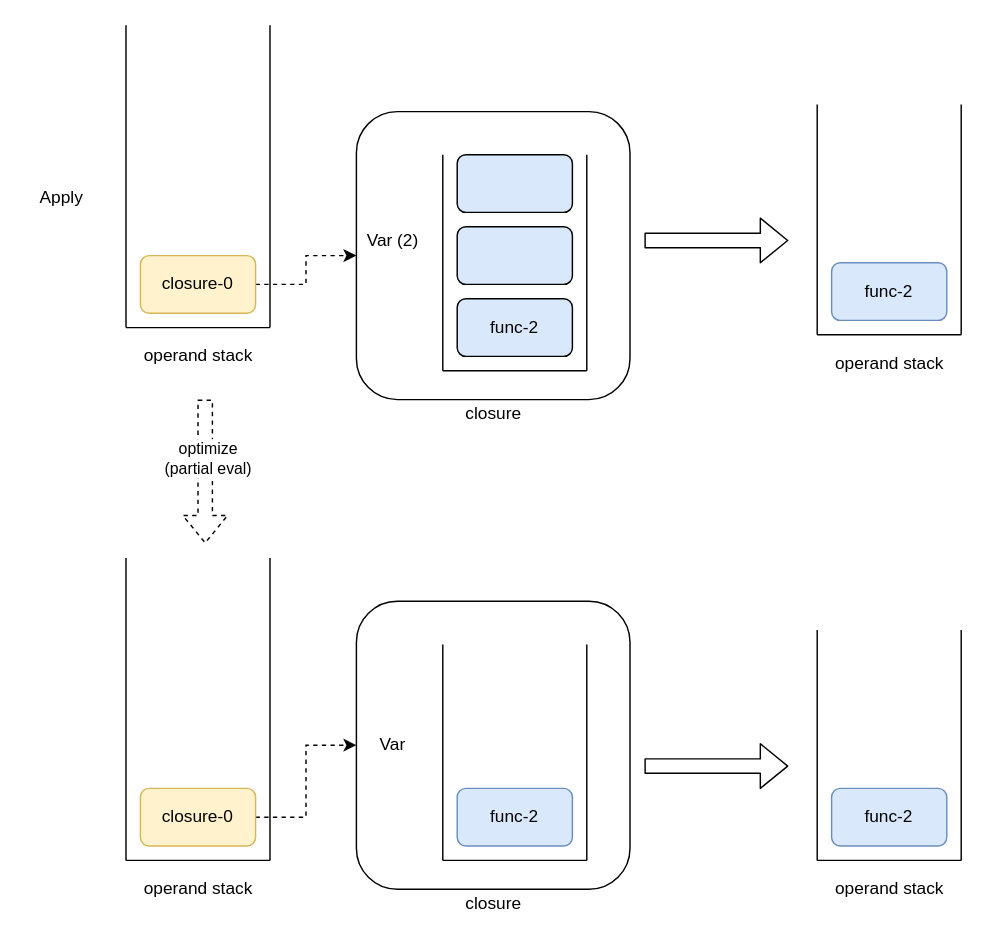
This 988x943 diagram has some shape labels left out. The centre of each missing label's shape, as x and y in pixels:
"func-0" belongs at [514,182].
"func-1" belongs at [514,254].
